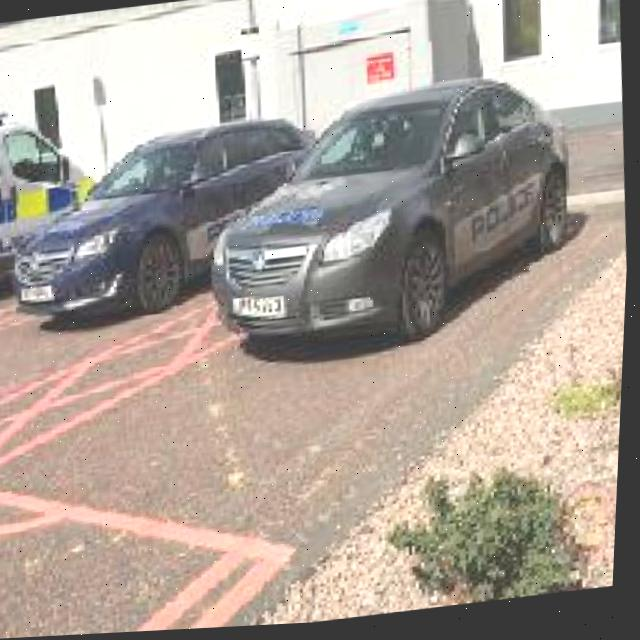emergency: (195, 70, 587, 371), (3, 112, 330, 332), (0, 99, 97, 293)
